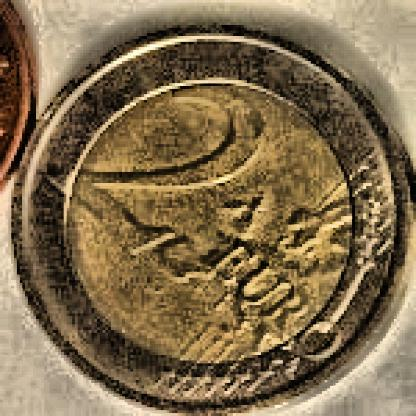coin: (8, 22, 414, 413)
